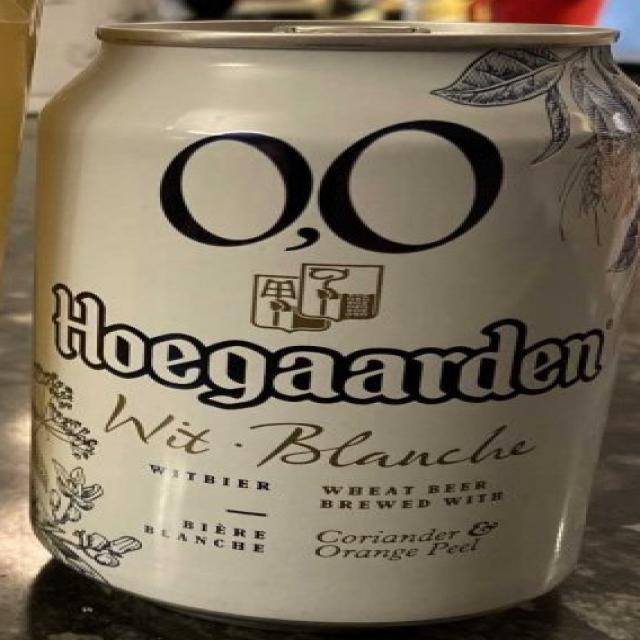Hoegaarden ROSEE: (2, 0, 640, 640)
